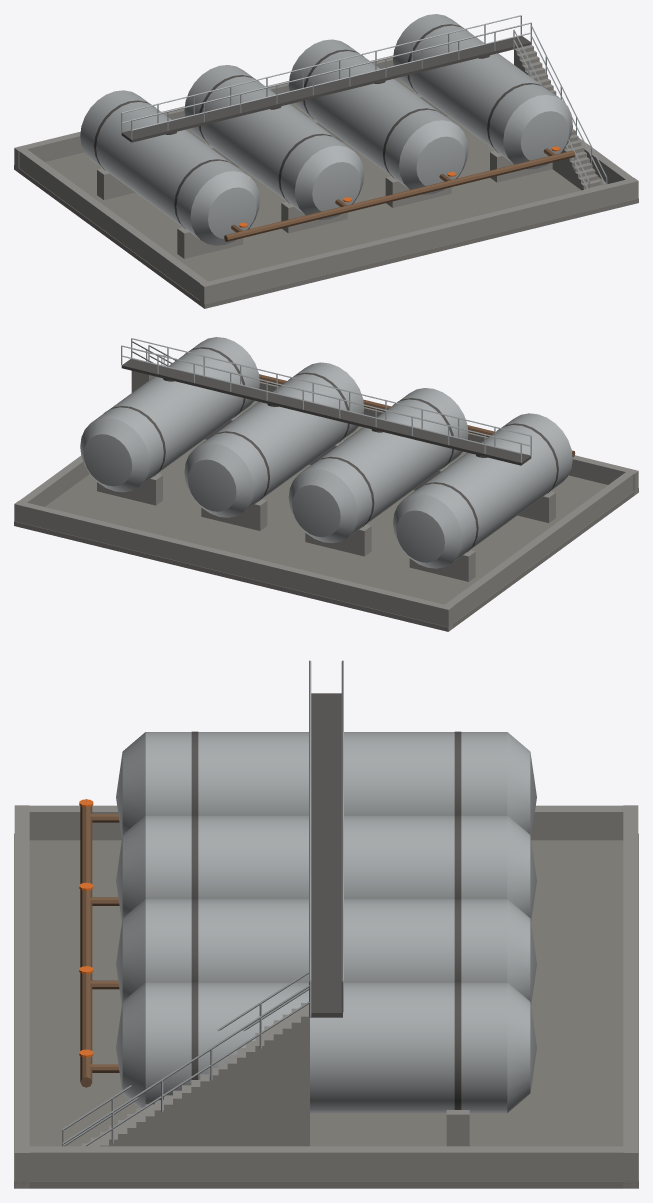
Rendered from Scenery_FuelFarm.fbx.
3 views of the same model, one above another, from view 1: azimuth 30°, elevation 25°; view 2: azimuth 150°, elevation 25°; view 3: azimuth 270°, elevation 25° (orthographic). The views are drawn at different scales.
Parts seen in each view (by area): view 1: Scenery_FuelFarm_LOD0; view 2: Scenery_FuelFarm_LOD0; view 3: Scenery_FuelFarm_LOD0.
Part boxes in pixels (<box>): Scenery_FuelFarm_LOD0: <box>14,14,638,308</box>; Scenery_FuelFarm_LOD0: <box>14,337,638,631</box>; Scenery_FuelFarm_LOD0: <box>14,660,638,1188</box>.
Size of what is drawn, in the model's own units: 25 by 6.54 by 19.
